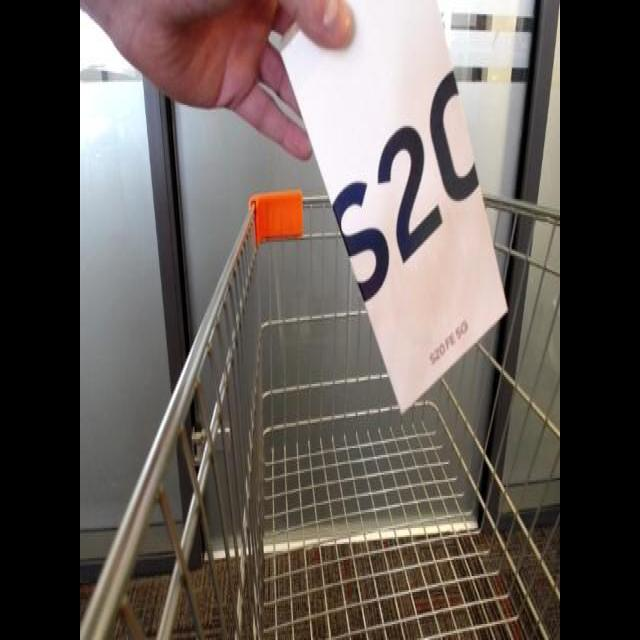Samsung S20: (278, 0, 523, 414)
